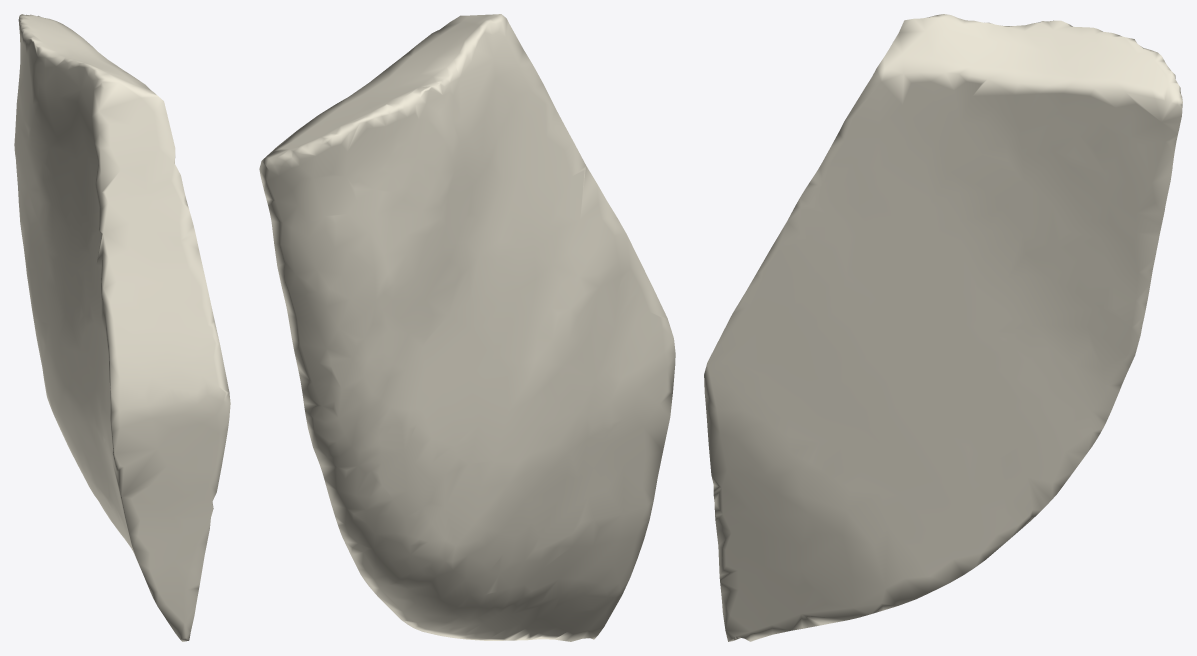
The model's file is fma319028_mm911.glb.
3 renders of one model, left to right at view 1: azimuth 30°, elevation 25°; view 2: azimuth 150°, elevation 25°; view 3: azimuth 270°, elevation 25°, orthographic. The views are drawn at different scales.
Parts seen in each view (by area): view 1: FMA319028_MM911; view 2: FMA319028_MM911; view 3: FMA319028_MM911.
Boxes of the visible parts, left/top/right/bottom form: FMA319028_MM911: left=14, top=14, right=230, bottom=641; FMA319028_MM911: left=259, top=14, right=675, bottom=641; FMA319028_MM911: left=704, top=14, right=1182, bottom=641.
Bounding box in the file's own units: 0.00513 × 0.0205 × 0.0143.
